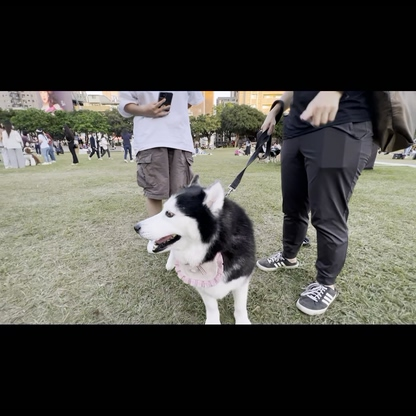husky: (130, 172, 260, 323)
